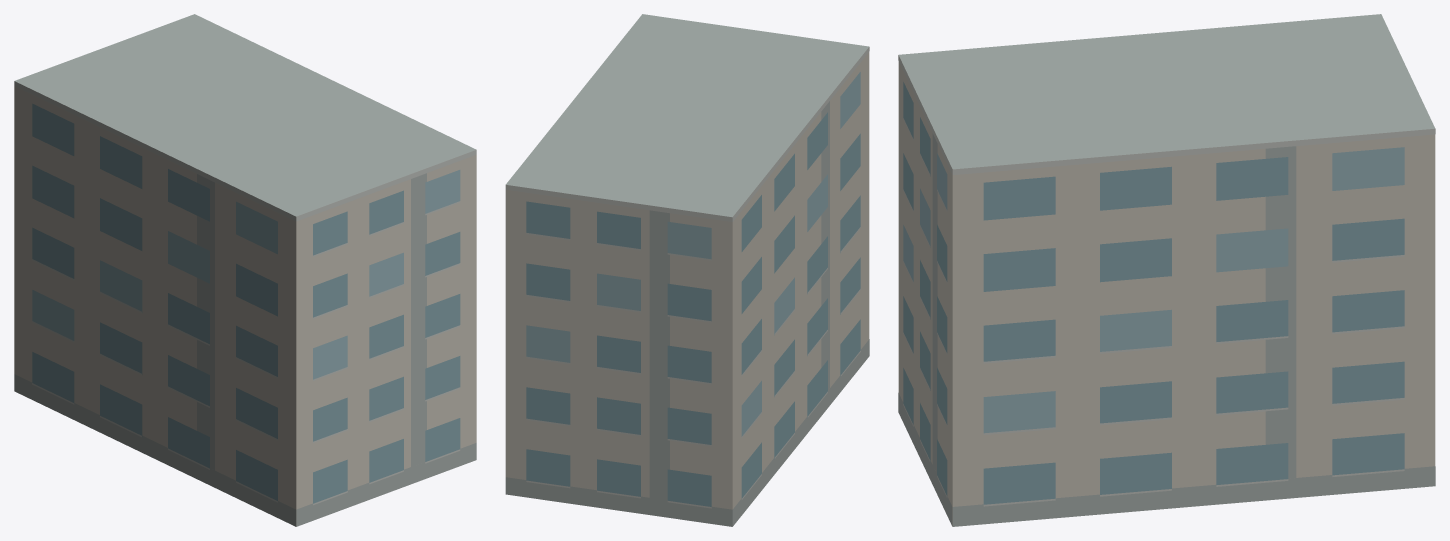
File: residential-65f6b737-ed66-4786-8397-69c7b87f8a71.glb
The picture shows the model from 3 angles, left to right: view 1: azimuth 30°, elevation 25°; view 2: azimuth 150°, elevation 25°; view 3: azimuth 270°, elevation 25°; orthographic projection. The views are drawn at different scales.
Parts seen in each view (by area): view 1: residential-65f6b737-ed66-4786-8397-69c7b87f8a71.tmp; view 2: residential-65f6b737-ed66-4786-8397-69c7b87f8a71.tmp; view 3: residential-65f6b737-ed66-4786-8397-69c7b87f8a71.tmp.
Part boxes in pixels (x1,y1,x2,y2): residential-65f6b737-ed66-4786-8397-69c7b87f8a71.tmp: [14, 14, 476, 526]; residential-65f6b737-ed66-4786-8397-69c7b87f8a71.tmp: [505, 14, 869, 526]; residential-65f6b737-ed66-4786-8397-69c7b87f8a71.tmp: [898, 14, 1435, 526].
Bounding box in the file's own units: 14.23 × 15.25 × 20.77.
